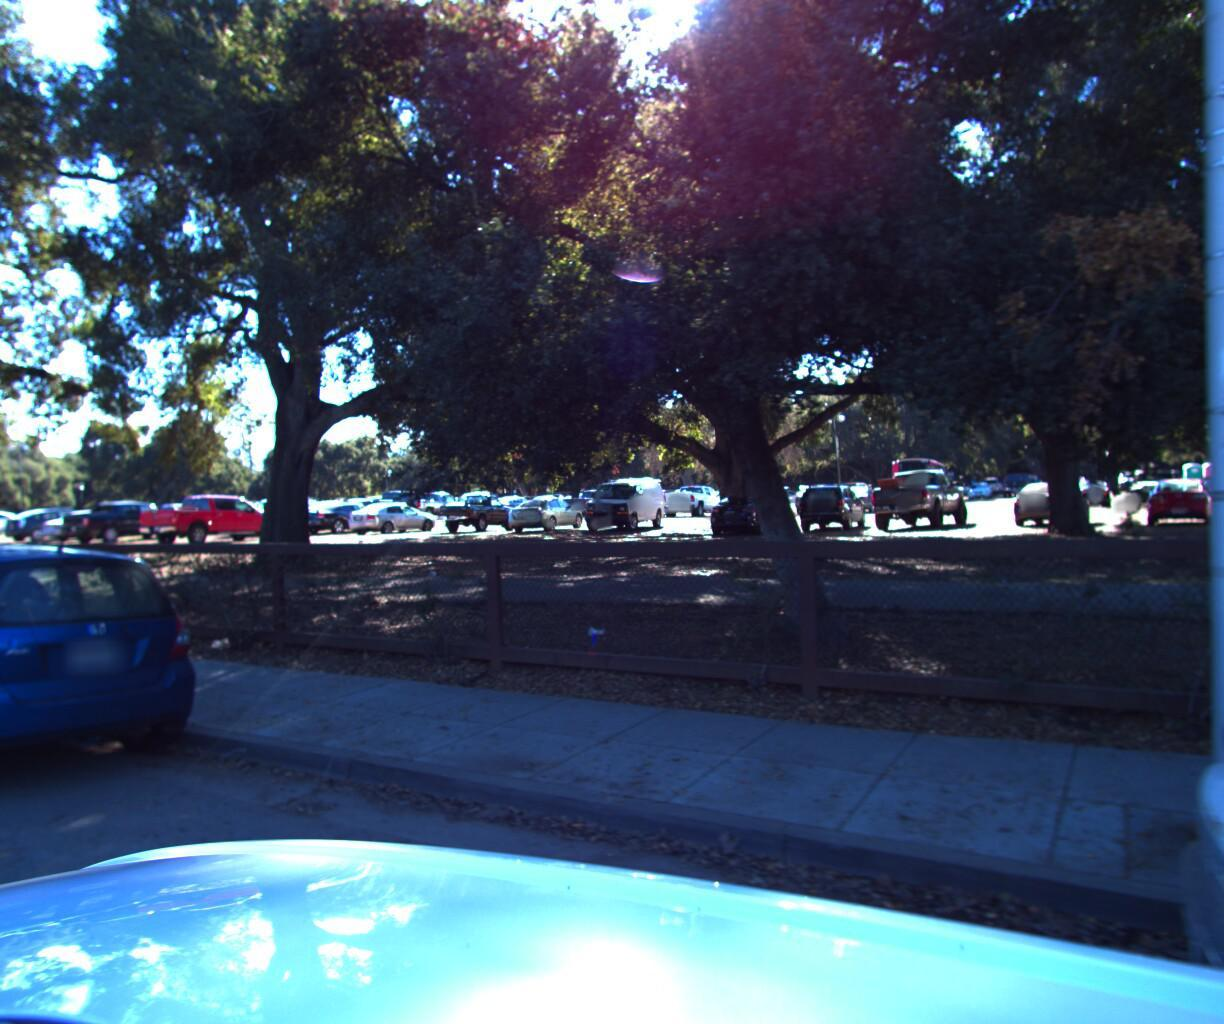car: (0, 527, 218, 824)
other_vehicle: (0, 322, 3, 744)
